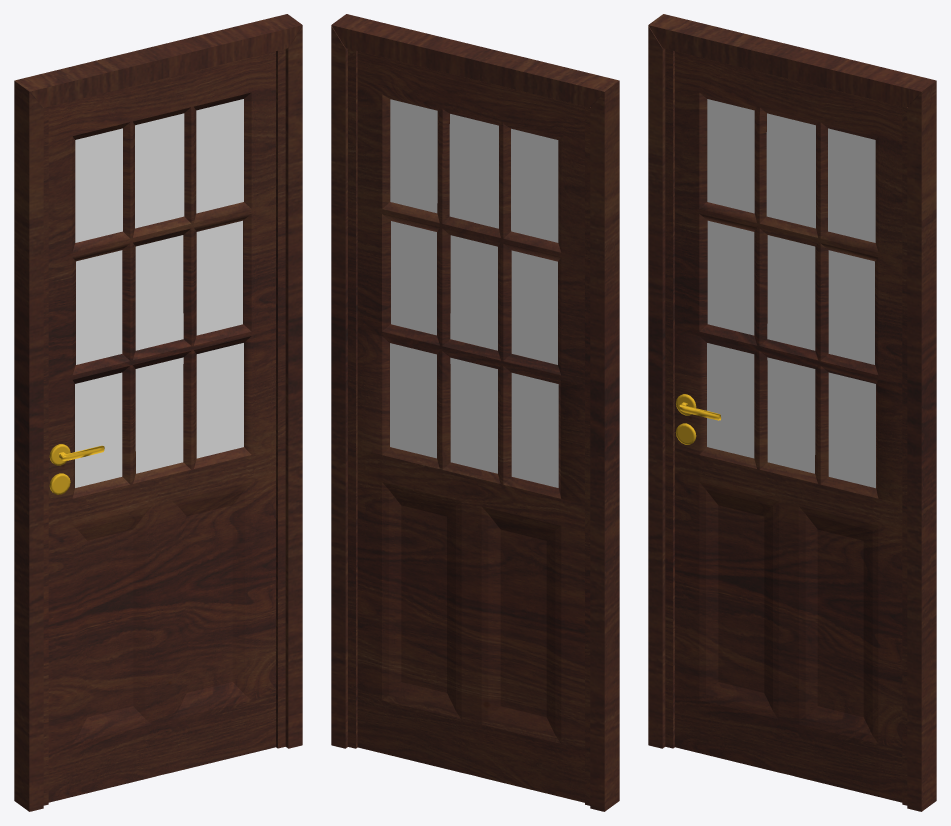
The model's file is PUERTA19_BARLETTA.glb.
The picture shows the model from 3 angles, left to right: view 1: azimuth 30°, elevation 25°; view 2: azimuth 150°, elevation 25°; view 3: azimuth 330°, elevation 25°; orthographic projection.
Parts seen in each view (by area): view 1: Puerta19_BARLETTA, Puerta19_cristales, Puerta19_Marco, Puerta19_cerradura; view 2: Puerta19_BARLETTA, Puerta19_cristales, Puerta19_Marco; view 3: Puerta19_BARLETTA, Puerta19_cristales, Puerta19_Marco, Puerta19_cerradura.
Boxes of the visible parts, box(x1,y1,x2,y2) form: Puerta19_BARLETTA: box(43, 49, 285, 805); Puerta19_cristales: box(75, 99, 243, 487); Puerta19_Marco: box(14, 14, 302, 811); Puerta19_cerradura: box(49, 444, 104, 494); Puerta19_BARLETTA: box(348, 49, 590, 805); Puerta19_cristales: box(390, 99, 558, 487); Puerta19_Marco: box(331, 14, 619, 811); Puerta19_BARLETTA: box(665, 49, 907, 805); Puerta19_cristales: box(707, 99, 875, 488); Puerta19_Marco: box(648, 14, 936, 811); Puerta19_cerradura: box(675, 394, 721, 444).
Size of the model in its own units: 769 by 1936 by 85.
3 materials, 1 textured.
